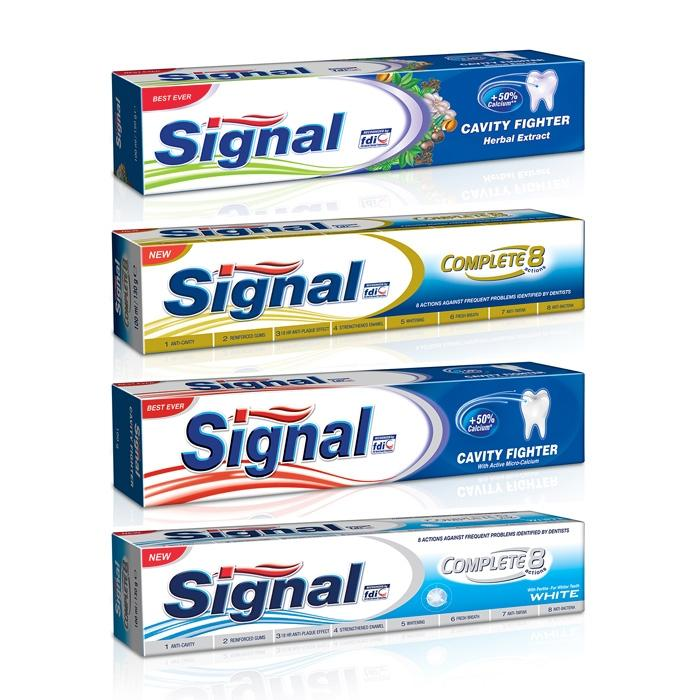toothpaste: (114, 196, 615, 364), (101, 501, 608, 662), (99, 365, 624, 491), (99, 52, 630, 176)
